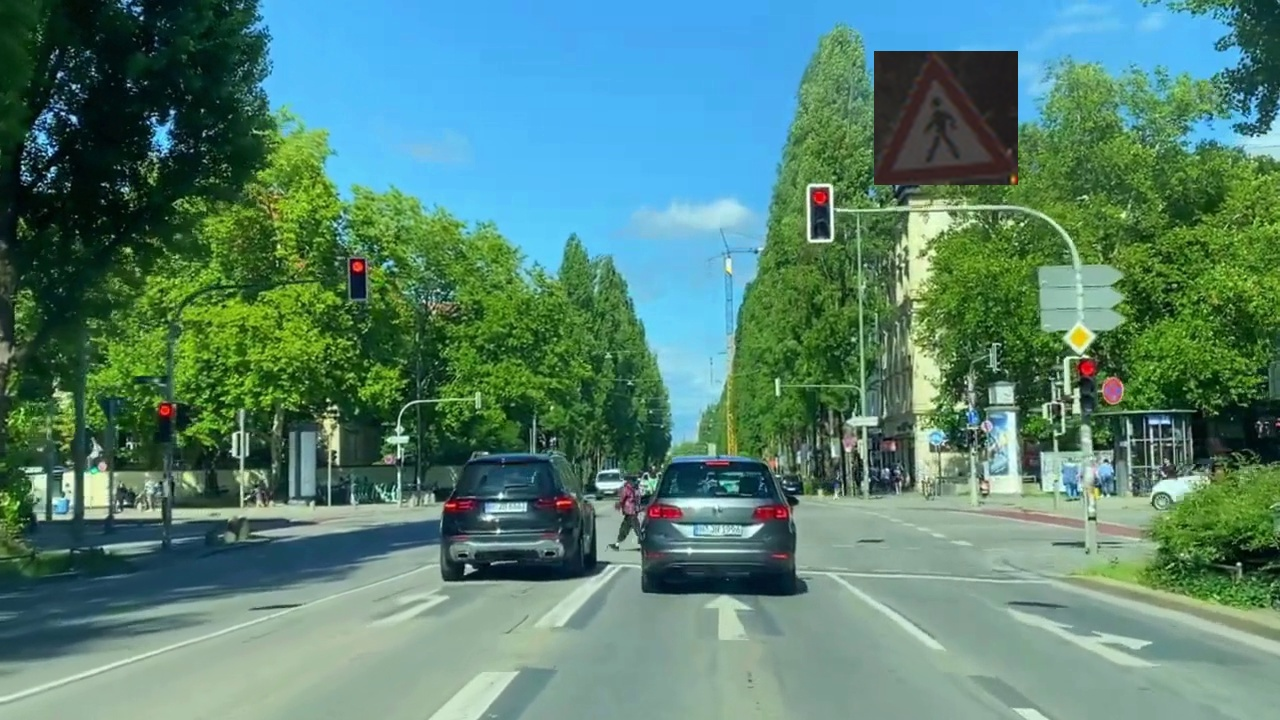Pedestrians: (874, 51, 1018, 185)
